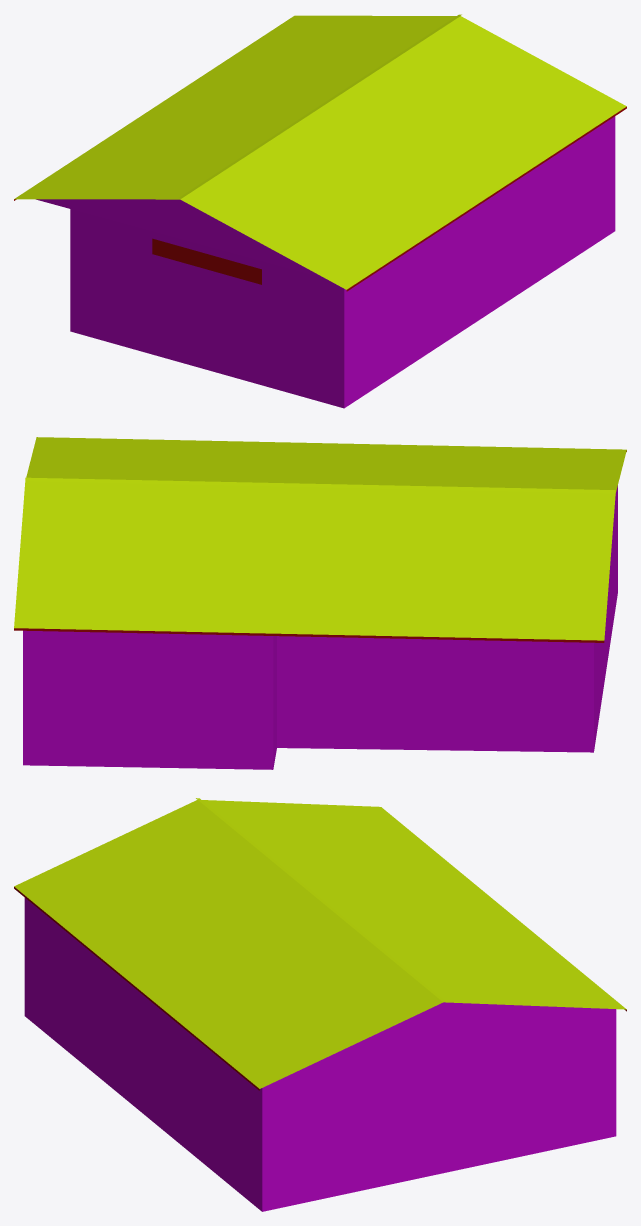
The picture shows the model from 3 angles, top to bottom: view 1: azimuth 30°, elevation 25°; view 2: azimuth 150°, elevation 25°; view 3: azimuth 270°, elevation 25°; orthographic projection. The views are drawn at different scales.
Visible parts, largest first — view 1: sc_19; view 2: sc_19; view 3: sc_19.
Boxes of the visible parts, left/top/right/bottom form: sc_19: left=14, top=14, right=626, bottom=408; sc_19: left=14, top=437, right=626, bottom=769; sc_19: left=14, top=798, right=626, bottom=1211.
Size of the model in its own units: 33.54 by 9.83 by 30.79.
